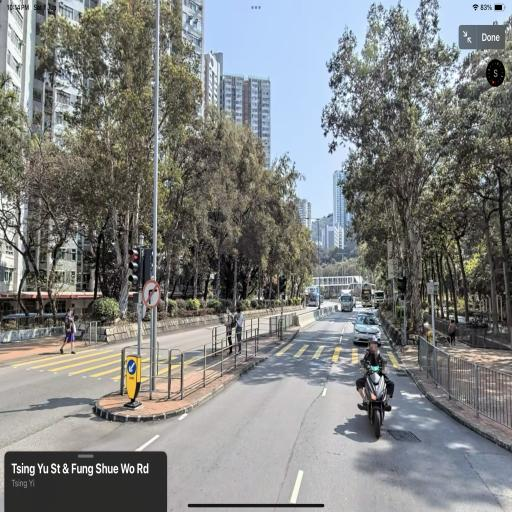Roads: (0, 292, 512, 512)
Trees: (318, 9, 512, 351), (0, 3, 165, 306), (133, 128, 309, 303)
